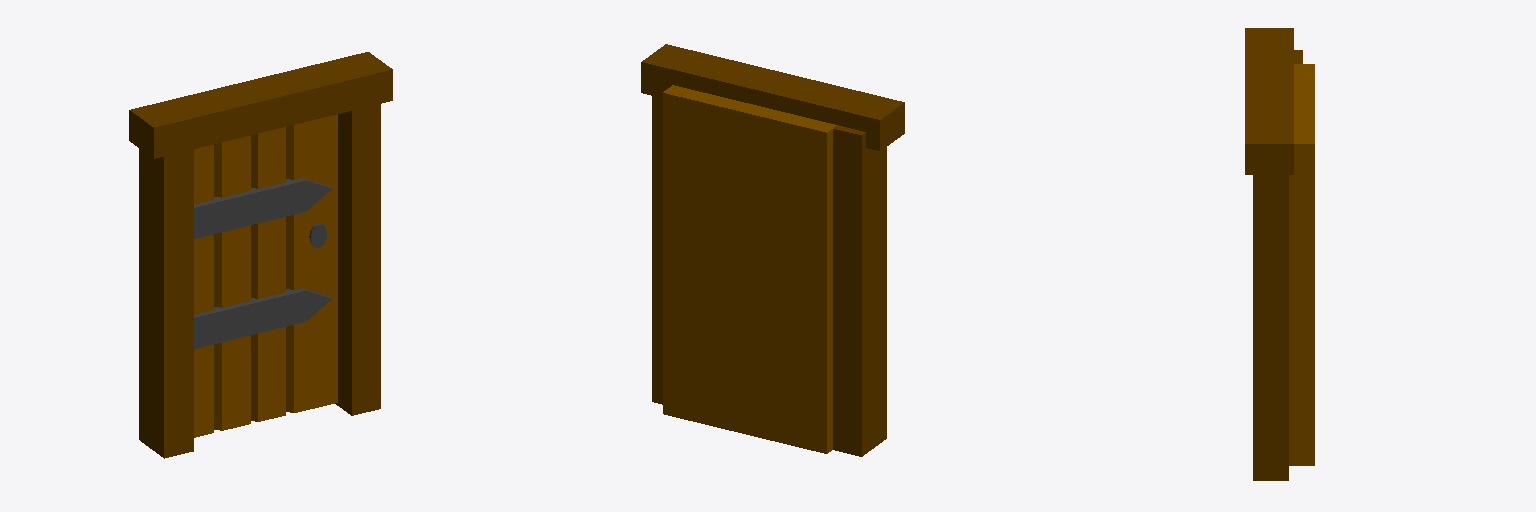
The model's file is DoorSquare.obj.
The picture shows the model from 3 angles: view 1: azimuth 30°, elevation 25°; view 2: azimuth 150°, elevation 25°; view 3: azimuth 270°, elevation 25°; orthographic projection.
Visible parts, largest first — view 1: DoorSquare; view 2: DoorSquare; view 3: DoorSquare.
Part boxes in pixels (left/top/right/bottom): DoorSquare: left=129, top=52, right=392, bottom=458; DoorSquare: left=641, top=44, right=904, bottom=456; DoorSquare: left=1245, top=28, right=1314, bottom=480.
Size of the model in its own units: 2.06 by 2.8 by 0.5188.